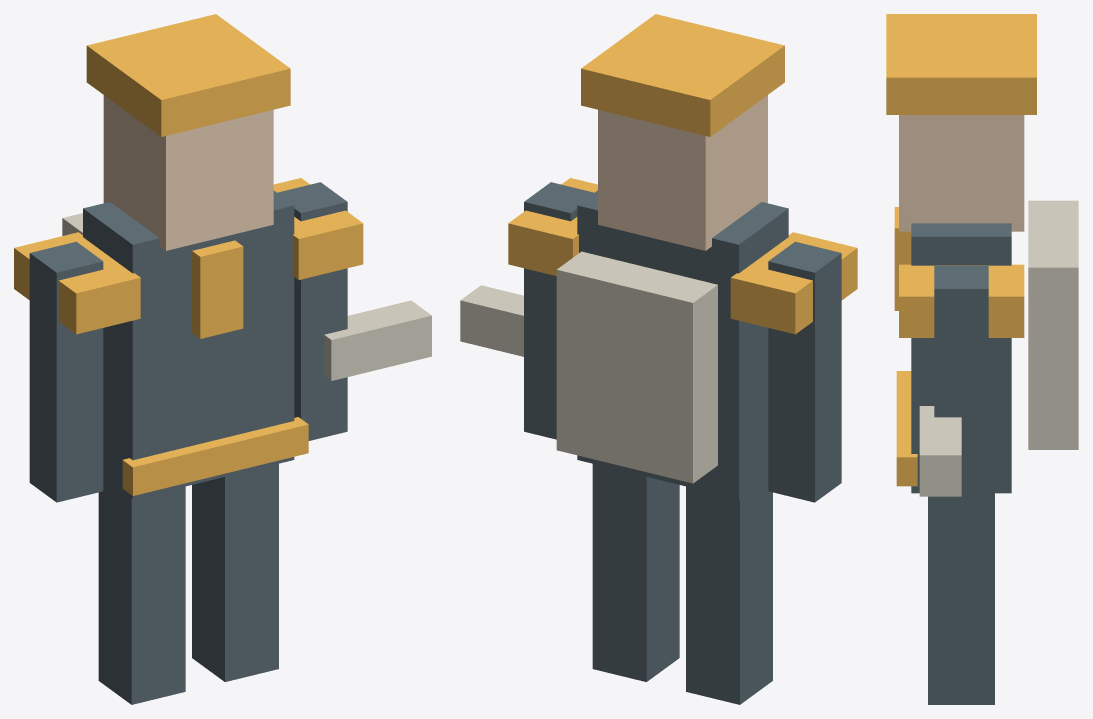
File: 16_selka_signalborn_warden_of_containment.glb
3 views of the same model, side by side, from view 1: azimuth 30°, elevation 25°; view 2: azimuth 150°, elevation 25°; view 3: azimuth 270°, elevation 25° (orthographic).
Parts seen in each view (by area): view 1: Selka Signalborn, Warden of Containment; view 2: Selka Signalborn, Warden of Containment; view 3: Selka Signalborn, Warden of Containment.
Part boxes in pixels (box(x1,y1,x2,y2)): Selka Signalborn, Warden of Containment: box(14, 14, 431, 704); Selka Signalborn, Warden of Containment: box(460, 14, 857, 704); Selka Signalborn, Warden of Containment: box(886, 14, 1078, 704).
Bounding box in the file's own units: 1.04 × 1.67 × 0.4676.
